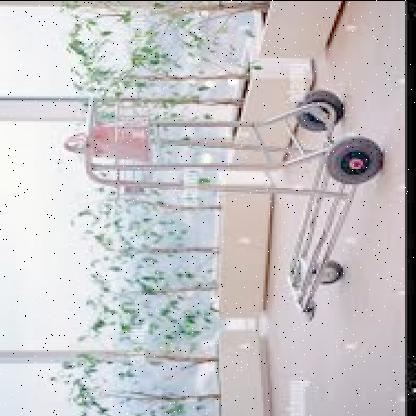airport-trolley: (63, 59, 393, 322)
